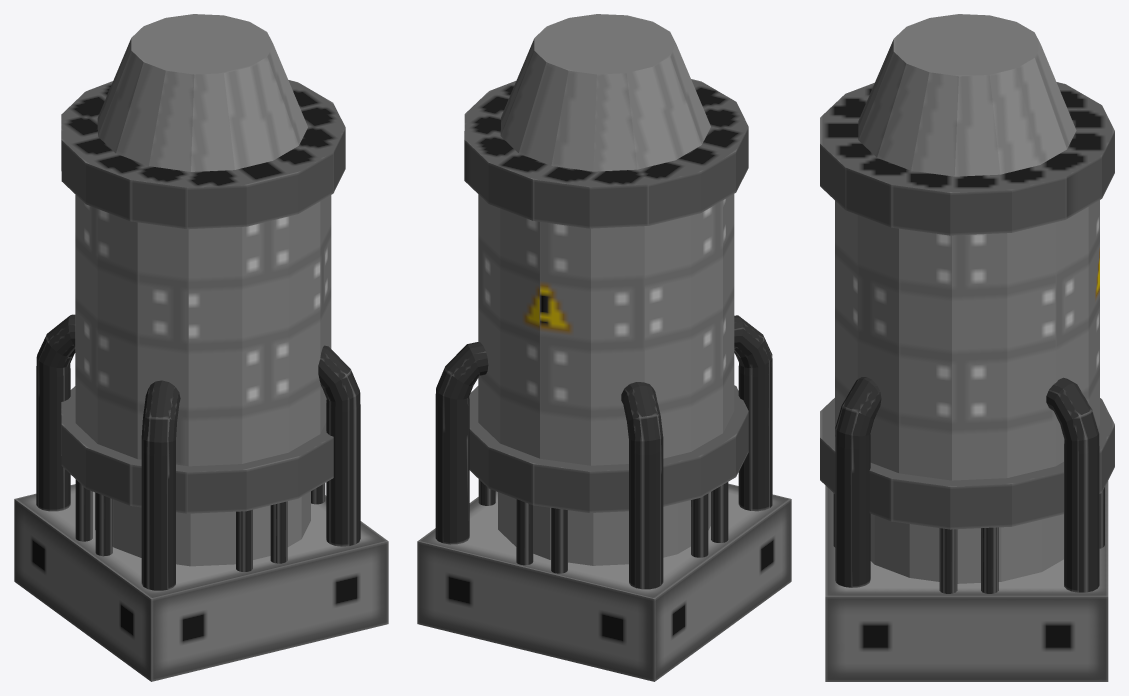
File: hydrotreater.obj
The picture shows the model from 3 angles, left to right: view 1: azimuth 30°, elevation 25°; view 2: azimuth 150°, elevation 25°; view 3: azimuth 270°, elevation 25°; orthographic projection. The views are drawn at different scales.
Visible parts, largest first — view 1: cylinder; view 2: cylinder; view 3: cylinder.
Boxes of the visible parts, x1,y1,x2,y2 form: cylinder: (14, 14, 388, 681); cylinder: (417, 14, 791, 681); cylinder: (820, 14, 1114, 681).
Bounding box in the file's own units: 3.12 × 6.75 × 3.13.
